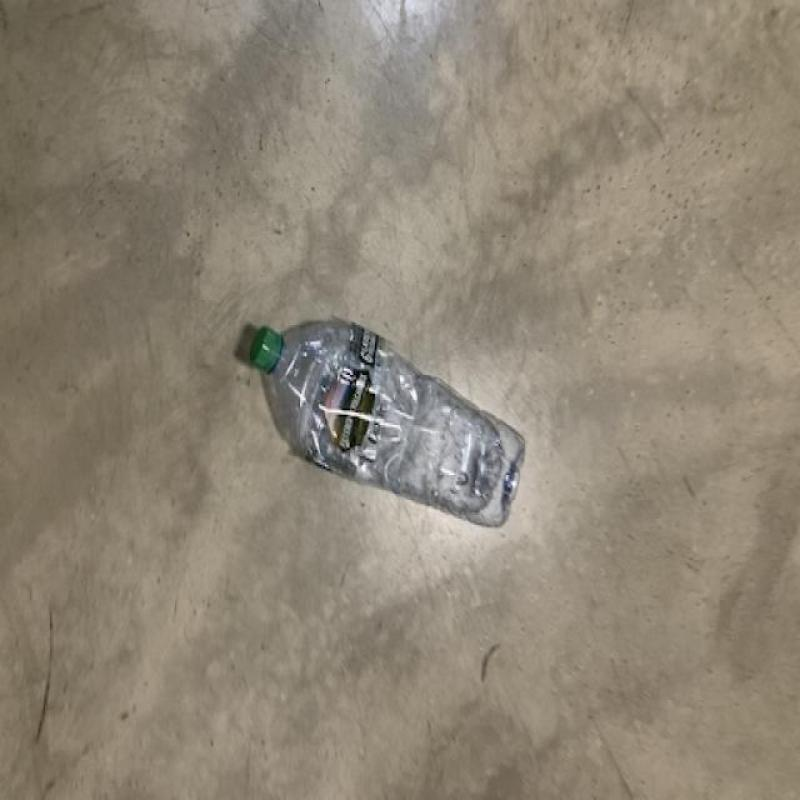botella: (248, 322, 528, 528)
